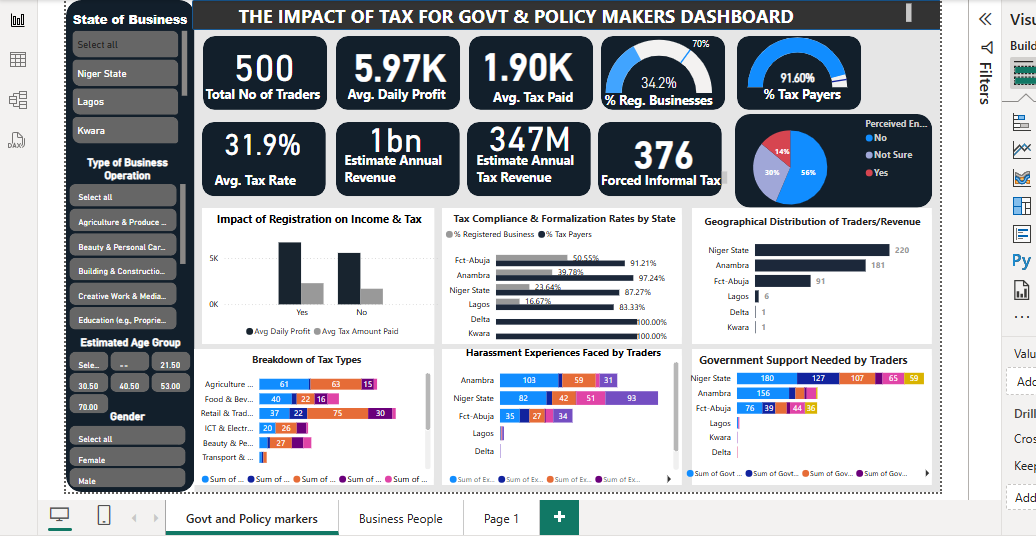

The page's visual inventory and layout, read from the dashboard file:
{"tool":"powerbi","page":{"name":"Govt and Policy markers","canvas":[1280,720],"ordinal":0},"visuals":[{"type":"shape","box":[0,0,1280,720],"z":0},{"type":"shape","box":[200,53.3,181.7,108.3],"z":1000},{"type":"shape","box":[0,0,188.3,720],"z":2000},{"type":"textbox","box":[198.3,120,208.3,41.7],"z":3000},{"type":"card","fields":{"Values":["Form Responses 1.Total Traders"]},"box":[205,58.3,168.3,66.7],"z":4000},{"type":"shape","box":[395,53.3,181.7,108.3],"z":5000},{"type":"textbox","box":[406.7,120,170,41.7],"z":6000},{"type":"card","fields":{"Values":["Form Responses 1.Avg Daily Profit"]},"box":[403.3,43.3,166.7,98.3],"z":7000},{"type":"shape","box":[590,53.3,181.7,108.3],"z":8000},{"type":"textbox","box":[598.3,125,170,41.7],"z":9000},{"type":"shape","box":[783.3,53.3,181.7,108.3],"z":10000},{"type":"shape","box":[981.7,53.3,181.7,108.3],"z":11000},{"type":"shape","box":[198.6,178.6,181.4,108.6],"z":12000},{"type":"card","fields":{"Values":["Form Responses 1.Avg Tax Amount Paid"]},"box":[590,41.7,168.3,100],"z":13000},{"type":"textbox","box":[774.3,128.6,185.7,41.4],"z":14000},{"type":"gauge","fields":{"Y":["Form Responses 1.% Registered Business"]},"box":[771.4,41.4,192.9,100],"z":15000},{"type":"textbox","box":[992.9,120,170,41.4],"z":16000},{"type":"gauge","fields":{"Y":["Form Responses 1.% Tax payers"]},"box":[981.4,50,177.1,82.9],"z":17000},{"type":"card","fields":{"Values":["Form Responses 1.Avg Tax Rate"]},"box":[194.3,167.1,185.7,81.4],"z":18000},{"type":"shape","box":[395.7,178.6,181.4,108.6],"z":19000},{"type":"textbox","box":[212.9,245.7,170,41.4],"z":20000},{"type":"shape","box":[587.1,178.6,181.4,108.6],"z":21000},{"type":"card","fields":{"Values":["Form Responses 1.Estimated Annual Revenue Potential"]},"box":[395.7,161.4,172.9,75.7],"z":22000},{"type":"textbox","box":[402.9,217.1,170,70],"z":23000},{"type":"card","fields":{"Values":["Form Responses 1.Estimated Annual Tax Revenue"]},"box":[607.1,157.1,142.9,80],"z":24000},{"type":"textbox","box":[595.7,217.1,170,70],"z":25000},{"type":"shape","box":[198.6,304.3,340,198.6],"z":26000},{"type":"textbox","box":[200,304.3,340,37.1],"z":27000},{"type":"shape","box":[550,304.3,351.4,198.6],"z":28000},{"type":"clusteredColumnChart","fields":{"Category":["Form Responses 1.Business Registered"],"Y":["Form Responses 1.Avg Daily Profit","Form Responses 1.Avg Tax Amount Paid"]},"box":[201.4,322.9,348.6,180],"z":29000},{"type":"textbox","box":[556.1,304.4,346.8,36.6],"z":30000},{"type":"clusteredBarChart","fields":{"Category":["Form Responses 1.State of Business"],"Y":["Form Responses 1.% Registered Business","Form Responses 1.% Tax payers"]},"box":[550,322.9,334.3,187.1],"z":31000},{"type":"shape","box":[915.7,304.3,351.4,198.6],"z":32000},{"type":"textbox","box":[928.6,308.6,351.4,32.9],"z":33000},{"type":"clusteredBarChart","fields":{"Category":["Form Responses 1.State of Business"],"Y":["Form Responses 1.Total Traders"]},"box":[928.6,335.7,314.3,167.1],"z":34000},{"type":"shape","box":[187.1,510,351.4,198.6],"z":35000},{"type":"textbox","box":[201.4,510,300,45.7],"z":36000},{"type":"barChart","fields":{"Category":["Form Responses 1.Type of Business Operation"],"Y":["Sum(Form Responses 1.Mode of Tax Payment - Daily/tickets)","Sum(Form Responses 1.Mode of Tax Payment - Weekly)","Sum(Form Responses 1.Mode of Tax Payment - Monthly)","Sum(Form Responses 1.Mode of Tax Payment - Yearly)","Sum(Form Responses 1.Mode of Tax Payment - None)"]},"box":[180,532.7,358.5,187.3],"z":37000},{"type":"advancedSlicerVisual","fields":{"Values":["Form Responses 1.State of Business"]},"box":[4.3,15.7,178.6,201.4],"z":38000},{"type":"advancedSlicerVisual","fields":{"Values":["Form Responses 1.Type of Business Operation"]},"box":[0,228.6,180,262.9],"z":39000},{"type":"advancedSlicerVisual","fields":{"Values":["Form Responses 1.Estimated Age Group"]},"box":[0,491.7,188.8,118.5],"z":40000},{"type":"shape","box":[550,510,351.4,198.6],"z":41000},{"type":"textbox","box":[567.8,500.5,316.1,32.2],"z":42000},{"type":"barChart","fields":{"Category":["Form Responses 1.State of Business"],"Y":["Sum(Form Responses 1.Experience with Tax Collector - Harassment or intimidation by taskforce)","Sum(Form Responses 1.Experience with Tax Collector - Forced closure of business)","Sum(Form Responses 1.Experience with Tax Collector - Seizure of goods or equipment)","Sum(Form Responses 1.Experience with Tax Collector - Arrest or detention)","Sum(Form Responses 1.Experience with Tax Collector - Threats for not paying informal fees)","Sum(Form Responses 1.Experience with Tax Collector - No negative experience)"]},"box":[555.7,517.1,345.7,202.9],"z":43000},{"type":"shape","box":[915.7,510,351.4,198.6],"z":44000},{"type":"textbox","box":[915.7,510,325.7,45.7],"z":45000},{"type":"barChart","fields":{"Category":["Form Responses 1.State of Business"],"Y":["Sum(Form Responses 1.Govt support to Businesses - Give small loans or grants)","Sum(Form Responses 1.Govt support to Businesses - Stop harassment by taskforce)","Sum(Form Responses 1.Govt support to Businesses - Reduce or combine multiple levies)","Sum(Form Responses 1.Govt support to Businesses - Provide training or mentorship)","Sum(Form Responses 1.Govt support to Businesses - Provide stalls or shop space in structured markets)","Sum(Form Responses 1.Govt support to Businesses - Other)","Sum(Form Responses 1.Govt support to Businesses - Offer free business registration)"]},"box":[902.9,524.3,377.1,187.1],"z":46000},{"type":"shape","box":[778.6,178.6,181.4,108.6],"z":47000},{"type":"card","fields":{"Values":["Form Responses 1.Force informal tax payment"]},"box":[795.7,187.1,157.1,65.7],"z":48000},{"type":"shape","box":[978.6,167.1,288.6,137.1],"z":49000},{"type":"textbox","box":[775.7,245.7,197.1,31.4],"z":50000},{"type":"advancedSlicerVisual","fields":{"Values":["Form Responses 1.Gender"]},"box":[0,600,180,120],"z":51000},{"type":"pieChart","fields":{"Category":["Form Responses 1.Perceived Environment development"],"Y":["Form Responses 1.Total Traders"]},"box":[945.4,166.8,335.1,156.6],"z":52000},{"type":"shape","box":[184.4,0,1096.1,43.9],"z":53000},{"type":"textbox","box":[247.3,0,995.1,41],"z":54000}]}

Visuals, with their boxes on the page's 1280x720 design canvas (x1, y1, x2, y2). These are canvas units, not pixel positions in the 1036x536 screenshot, which may show the page scaled, cropped or inside an application window:
shape: x1=0 y1=0 x2=1280 y2=720
shape: x1=200 y1=53 x2=382 y2=162
shape: x1=0 y1=0 x2=188 y2=720
textbox: x1=198 y1=120 x2=407 y2=162
card - Form Responses 1.Total Traders: x1=205 y1=58 x2=373 y2=125
shape: x1=395 y1=53 x2=577 y2=162
textbox: x1=407 y1=120 x2=577 y2=162
card - Form Responses 1.Avg Daily Profit: x1=403 y1=43 x2=570 y2=142
shape: x1=590 y1=53 x2=772 y2=162
textbox: x1=598 y1=125 x2=768 y2=167
shape: x1=783 y1=53 x2=965 y2=162
shape: x1=982 y1=53 x2=1163 y2=162
shape: x1=199 y1=179 x2=380 y2=287
card - Form Responses 1.Avg Tax Amount Paid: x1=590 y1=42 x2=758 y2=142
textbox: x1=774 y1=129 x2=960 y2=170
gauge - Form Responses 1.% Registered Business: x1=771 y1=41 x2=964 y2=141
textbox: x1=993 y1=120 x2=1163 y2=161
gauge - Form Responses 1.% Tax payers: x1=981 y1=50 x2=1158 y2=133
card - Form Responses 1.Avg Tax Rate: x1=194 y1=167 x2=380 y2=248
shape: x1=396 y1=179 x2=577 y2=287
textbox: x1=213 y1=246 x2=383 y2=287
shape: x1=587 y1=179 x2=768 y2=287
card - Form Responses 1.Estimated Annual Revenue Potential: x1=396 y1=161 x2=569 y2=237
textbox: x1=403 y1=217 x2=573 y2=287
card - Form Responses 1.Estimated Annual Tax Revenue: x1=607 y1=157 x2=750 y2=237
textbox: x1=596 y1=217 x2=766 y2=287
shape: x1=199 y1=304 x2=539 y2=503
textbox: x1=200 y1=304 x2=540 y2=341
shape: x1=550 y1=304 x2=901 y2=503
clusteredColumnChart - Form Responses 1.Business Registered x Form Responses 1.Avg Daily Profit: x1=201 y1=323 x2=550 y2=503
textbox: x1=556 y1=304 x2=903 y2=341
clusteredBarChart - Form Responses 1.State of Business x Form Responses 1.% Registered Business: x1=550 y1=323 x2=884 y2=510
shape: x1=916 y1=304 x2=1267 y2=503
textbox: x1=929 y1=309 x2=1280 y2=342
clusteredBarChart - Form Responses 1.State of Business x Form Responses 1.Total Traders: x1=929 y1=336 x2=1243 y2=503
shape: x1=187 y1=510 x2=538 y2=709
textbox: x1=201 y1=510 x2=501 y2=556
barChart - Form Responses 1.Type of Business Operation x Sum(Form Responses 1.Mode of Tax Payment - Daily/tickets): x1=180 y1=533 x2=538 y2=720
advancedSlicerVisual - Form Responses 1.State of Business: x1=4 y1=16 x2=183 y2=217
advancedSlicerVisual - Form Responses 1.Type of Business Operation: x1=0 y1=229 x2=180 y2=492
advancedSlicerVisual - Form Responses 1.Estimated Age Group: x1=0 y1=492 x2=189 y2=610
shape: x1=550 y1=510 x2=901 y2=709
textbox: x1=568 y1=500 x2=884 y2=533
barChart - Form Responses 1.State of Business x Sum(Form Responses 1.Experience with Tax Collector - Harassment or intimidation by taskforce): x1=556 y1=517 x2=901 y2=720
shape: x1=916 y1=510 x2=1267 y2=709
textbox: x1=916 y1=510 x2=1241 y2=556
barChart - Form Responses 1.State of Business x Sum(Form Responses 1.Govt support to Businesses - Give small loans or grants): x1=903 y1=524 x2=1280 y2=711
shape: x1=779 y1=179 x2=960 y2=287
card - Form Responses 1.Force informal tax payment: x1=796 y1=187 x2=953 y2=253
shape: x1=979 y1=167 x2=1267 y2=304
textbox: x1=776 y1=246 x2=973 y2=277
advancedSlicerVisual - Form Responses 1.Gender: x1=0 y1=600 x2=180 y2=720
pieChart - Form Responses 1.Perceived Environment development x Form Responses 1.Total Traders: x1=945 y1=167 x2=1280 y2=323
shape: x1=184 y1=0 x2=1280 y2=44
textbox: x1=247 y1=0 x2=1242 y2=41
